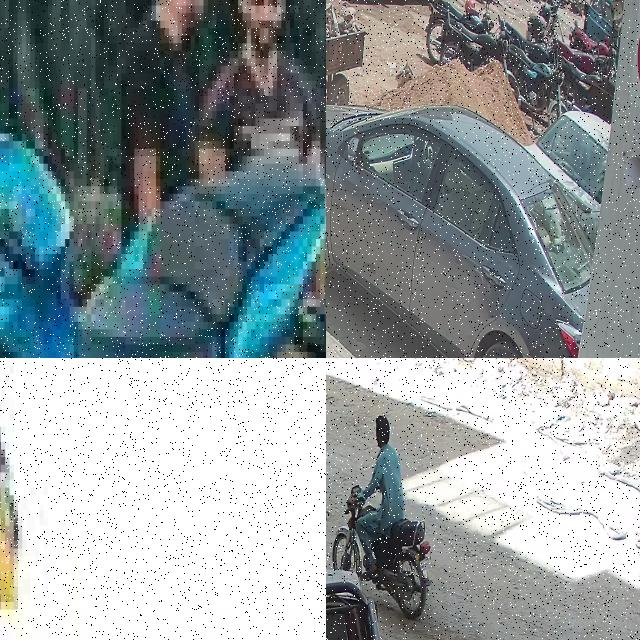bike: (0, 0, 326, 358), (0, 358, 210, 640), (332, 485, 431, 621), (436, 8, 508, 72), (425, 0, 490, 68), (508, 38, 566, 112), (503, 17, 558, 68), (569, 25, 617, 76), (562, 55, 604, 112), (556, 40, 600, 74), (526, 4, 559, 46)
car: (326, 104, 594, 358), (527, 113, 608, 238)
